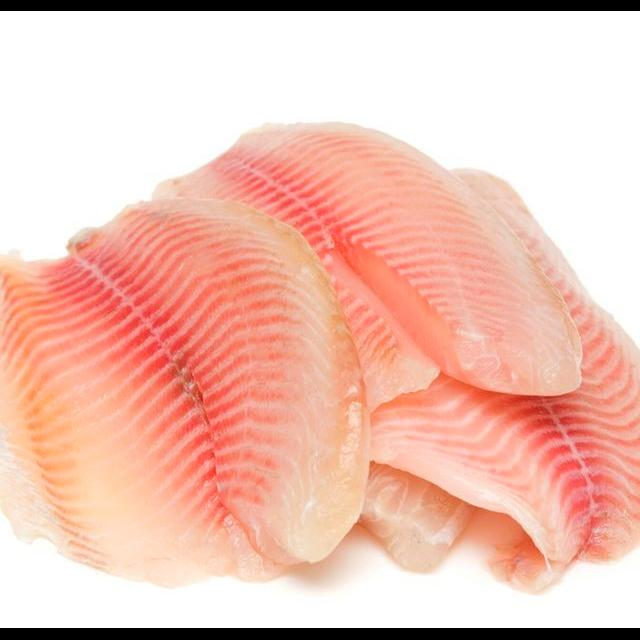fish: (0, 181, 393, 598)
